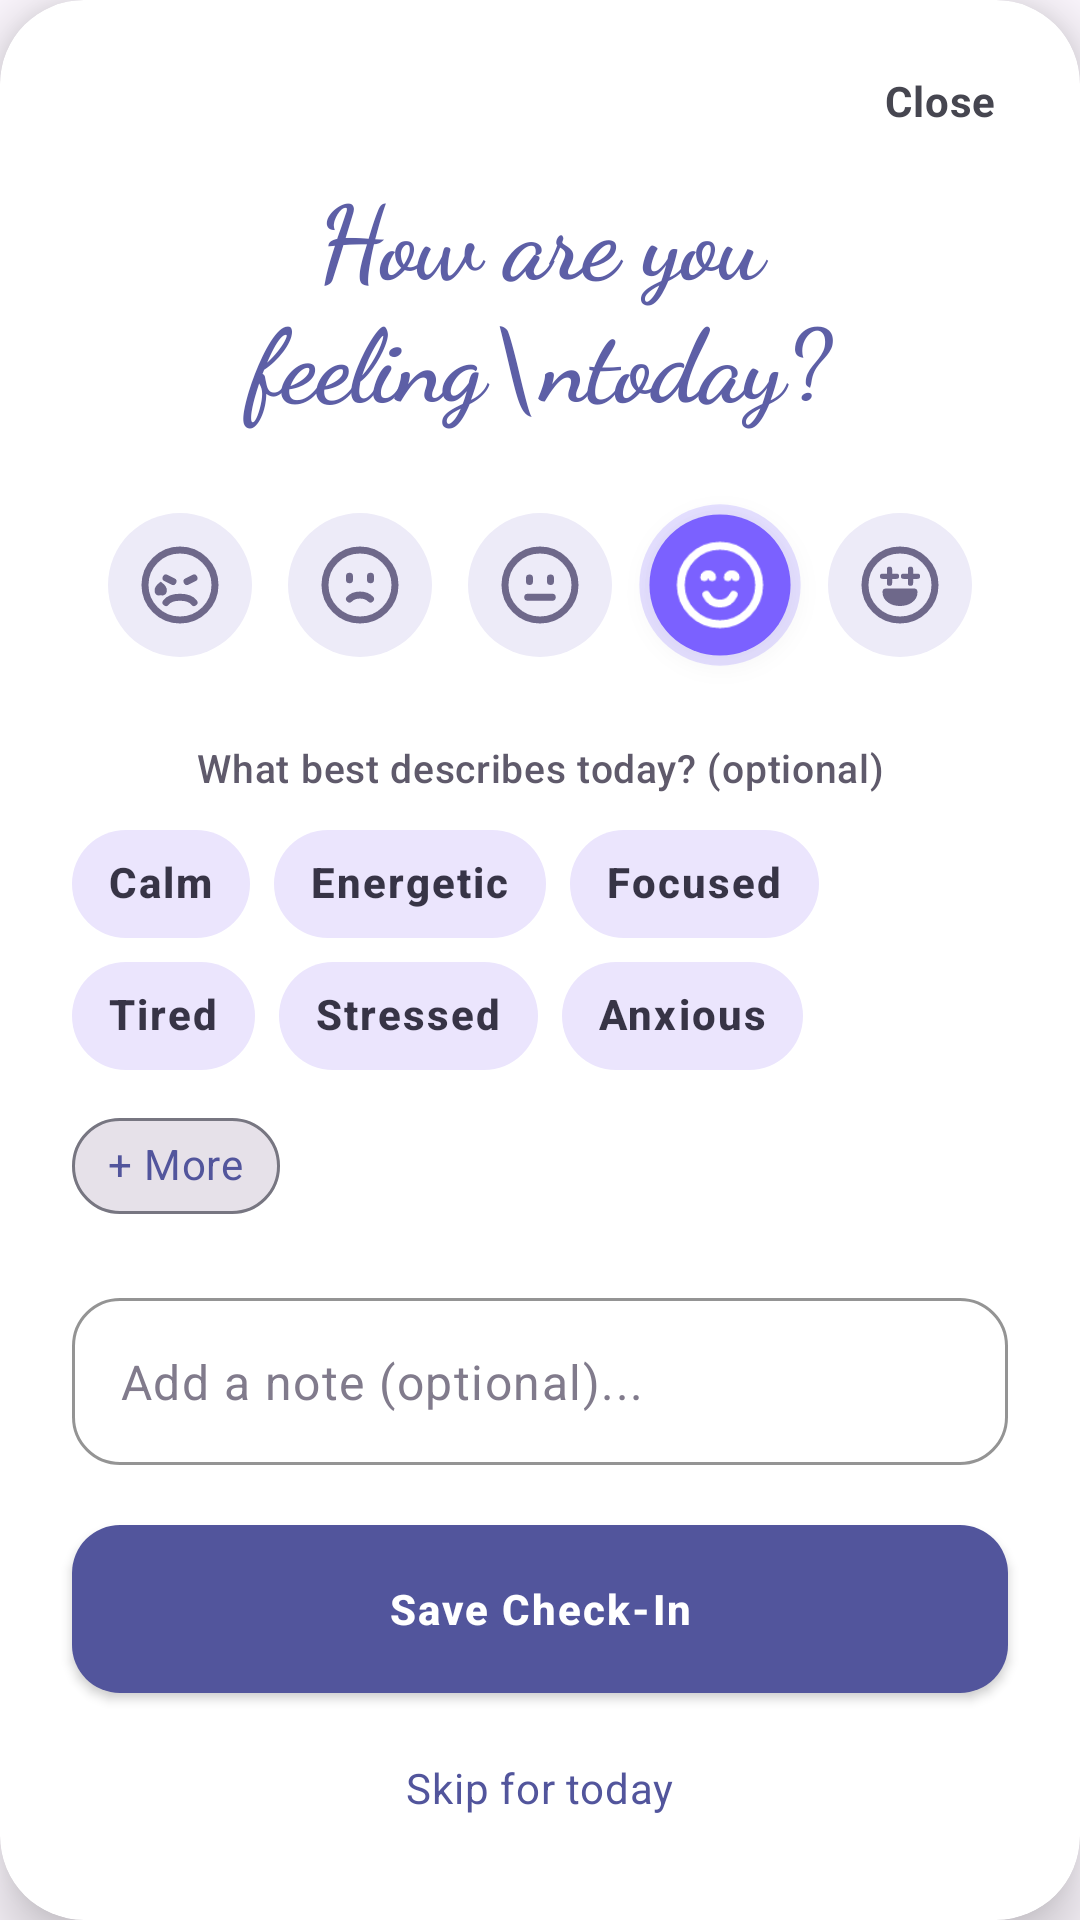

Icon click points for this 1080*1920 phone screenshot, format point (x, y):
Difficult: point (180, 585)
Low: point (360, 585)
Okay: point (540, 585)
Radiant: point (900, 585)
